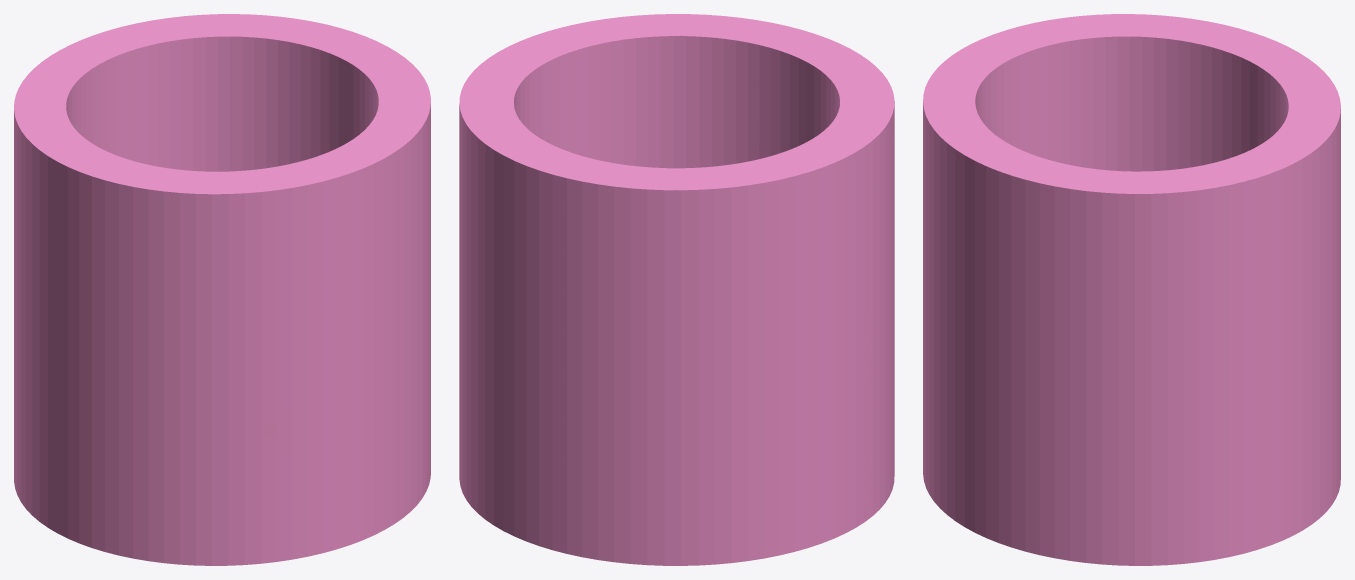
The model's file is BALDES basics.fbx.
The picture shows the model from 3 angles, left to right: view 1: azimuth 30°, elevation 25°; view 2: azimuth 150°, elevation 25°; view 3: azimuth 270°, elevation 25°; orthographic projection.
Visible parts, largest first — view 1: mesh_id27; view 2: mesh_id27; view 3: mesh_id27.
Part boxes in pixels (x1,y1,x2,y2): mesh_id27: (14, 14, 430, 565); mesh_id27: (459, 14, 894, 565); mesh_id27: (923, 14, 1340, 565).
Bounding box in the file's own units: 37.53 × 36.15 × 36.81.
Materials: 1 (1 with a texture image).
